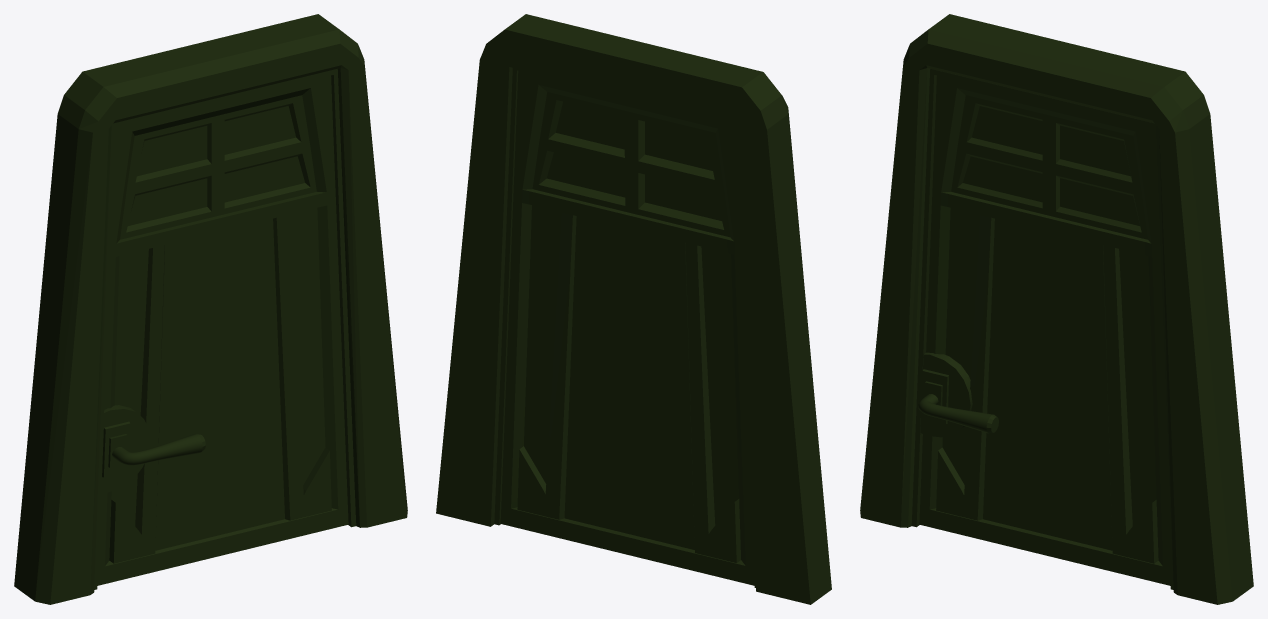
File: MSG_Lr_doorlibrary.FBX
The picture shows the model from 3 angles, left to right: view 1: azimuth 30°, elevation 25°; view 2: azimuth 150°, elevation 25°; view 3: azimuth 330°, elevation 25°; orthographic projection.
Visible parts, largest first — view 1: Object113; view 2: Object113; view 3: Object113.
Part boxes in pixels (x1,y1,x2,y2): Object113: (14,14,407,604); Object113: (436,14,831,604); Object113: (860,14,1253,604).
Size of the model in its own units: 197 by 252 by 38.23.
